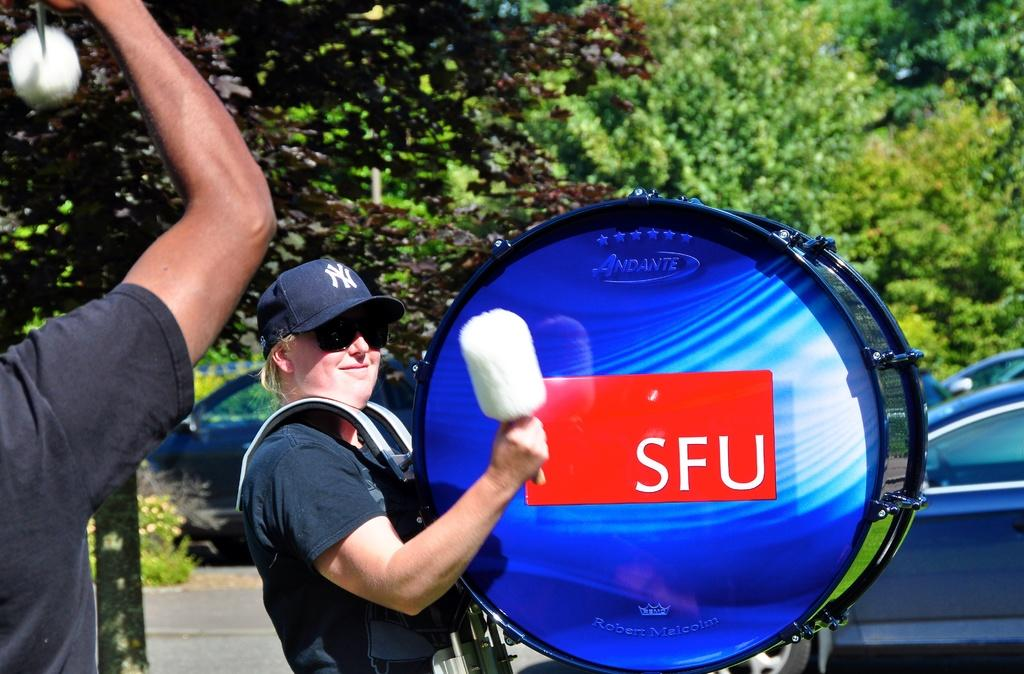Hat: (258, 258, 408, 358)
